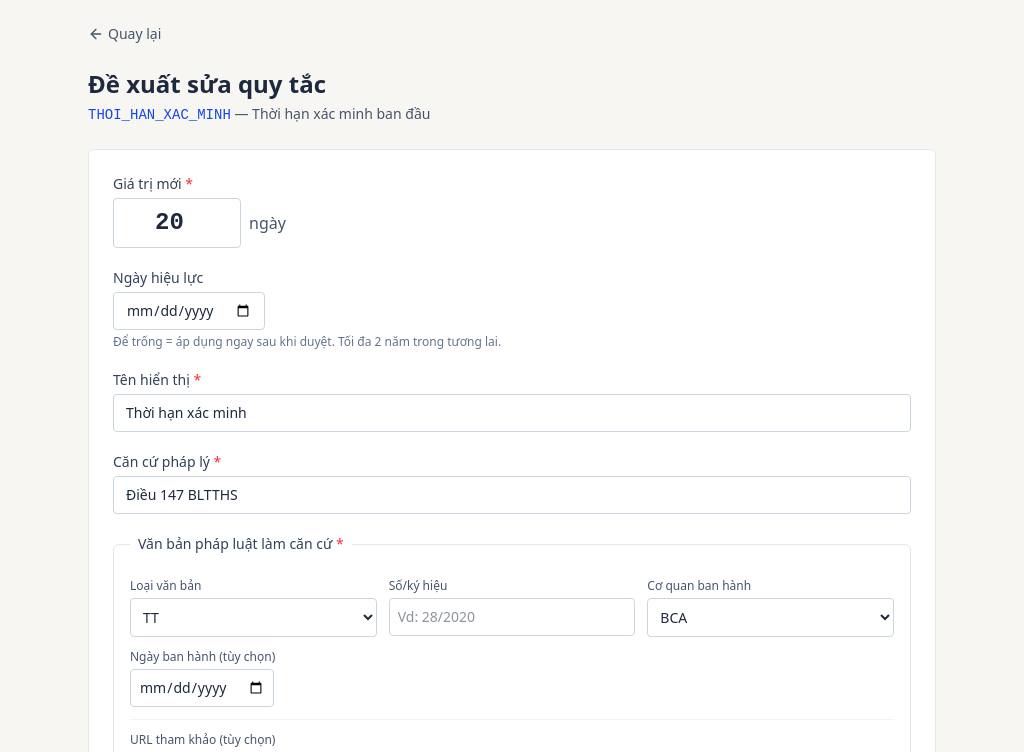
Test: ProposeDeadlineRulePage › rejects submit when value is invalid
Note: Set invalid value, fill the rest so we hit the value check specifically
Replace the text in the number field with test id "input-value" with "0". click: x=177, y=223
box: [113,198,241,248]
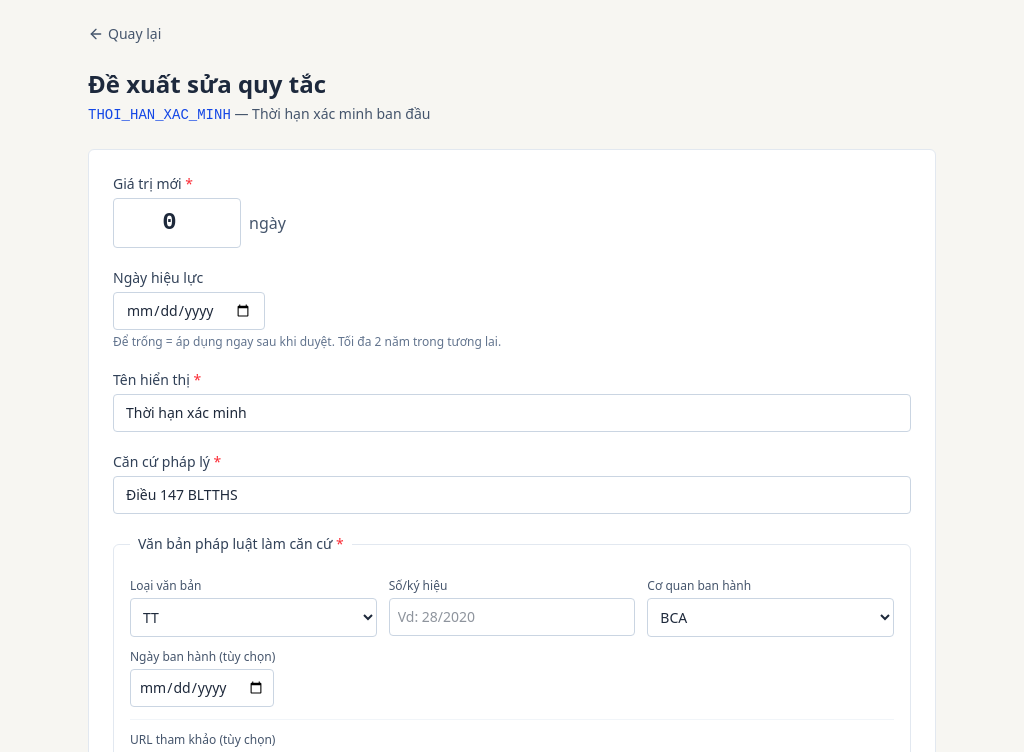
Type "28/2020" into the field with test id "input-doc-number". click: x=512, y=617
box: [389,598,635,636]
(page scrolled)
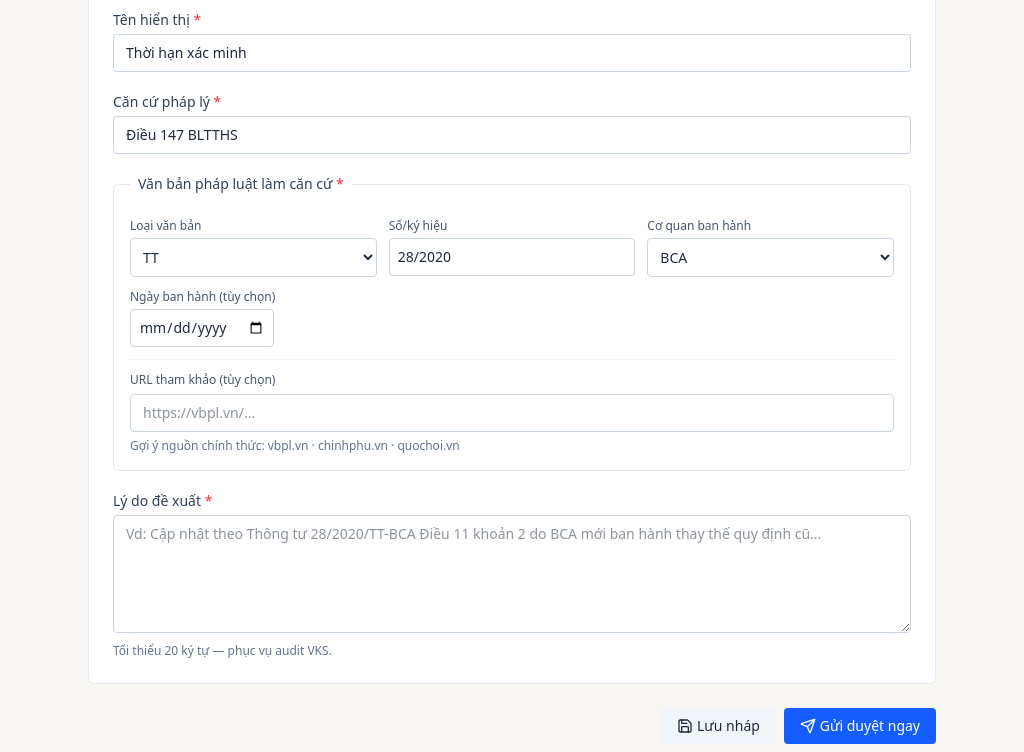
Replace the text in the text box with test id "input-reason" with "A valid long reason for this audit trail purpose". click: x=512, y=574
box: [113,515,911,633]
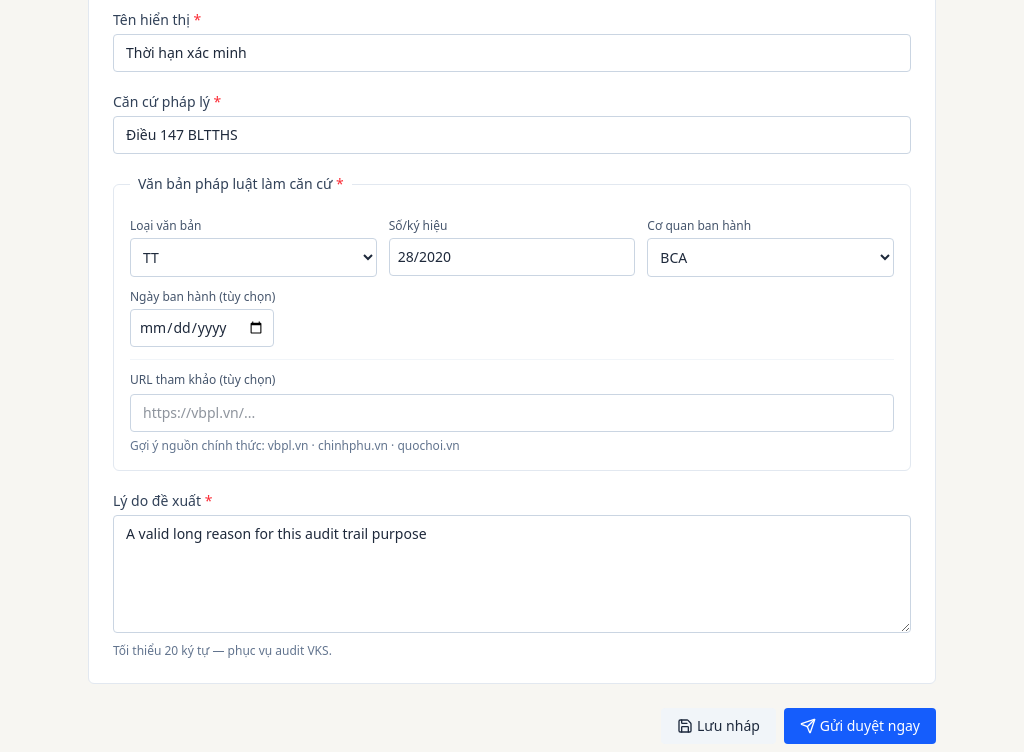
Click the button with test id "btn-submit". click: x=860, y=726
box: [784,708,936,744]
(page scrolled)
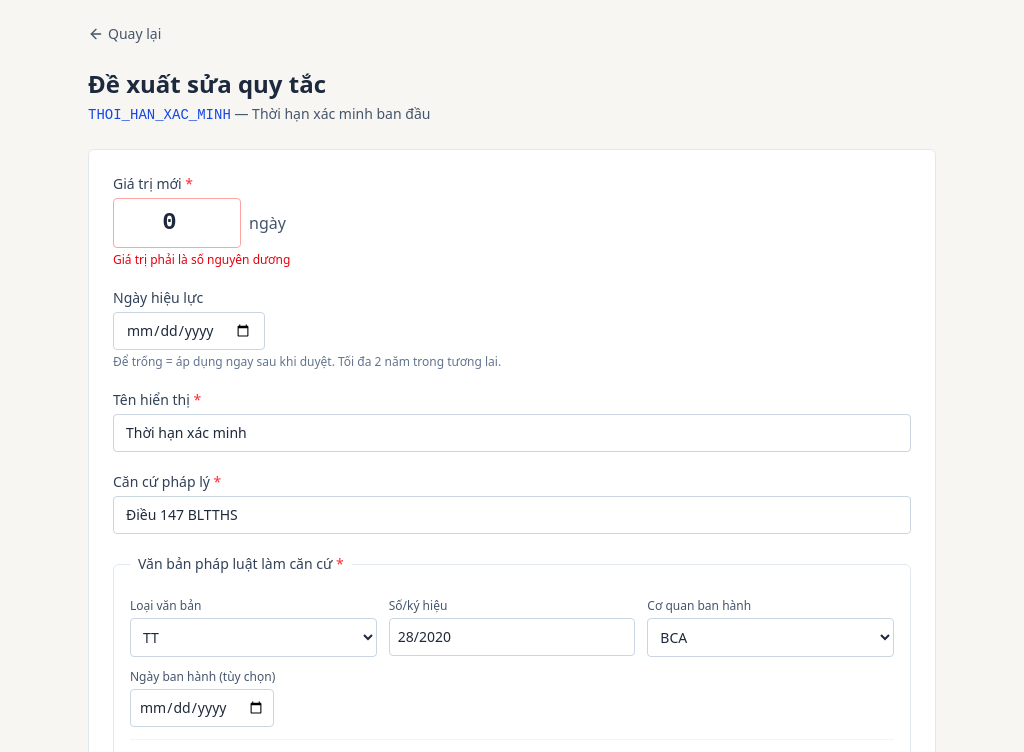
Now the text "Giá trị phải là số nguyên dương" is shown, box [113,251,290,268]
